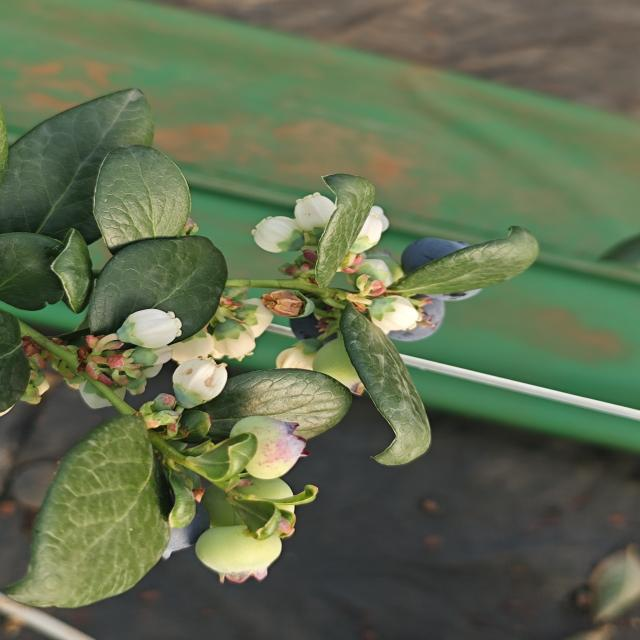ripe: (398, 231, 492, 304), (127, 488, 220, 560), (371, 280, 453, 346), (280, 294, 354, 348)
